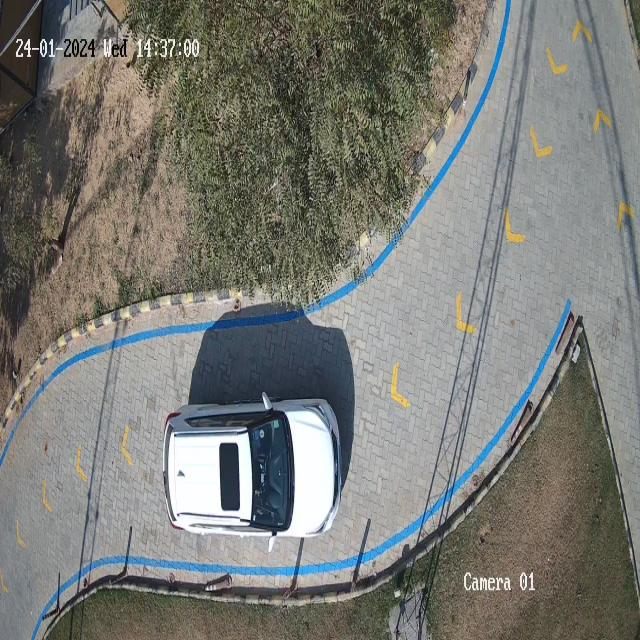car: (162, 393, 341, 548)
